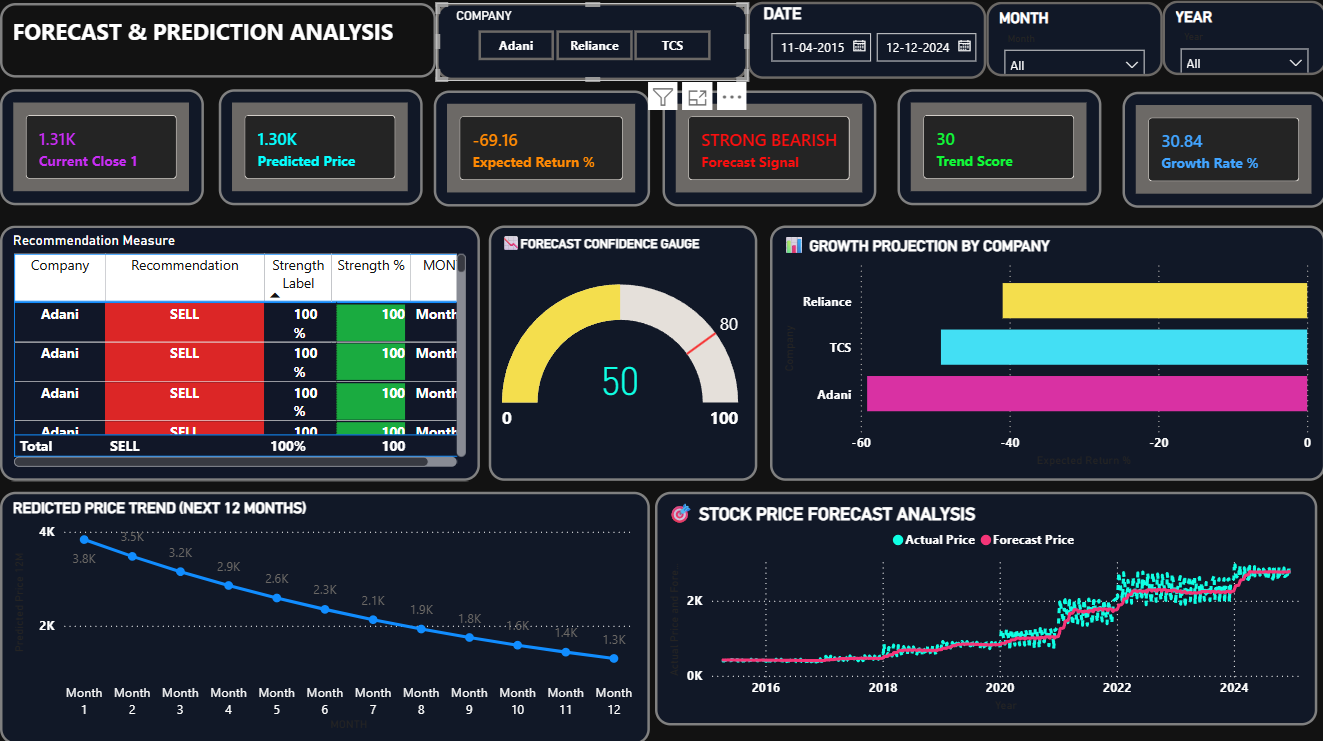

The page's visual inventory and layout, read from the dashboard file:
{"tool":"powerbi","page":{"name":"FORECAST & PREDICTION ANALYSIS","canvas":[1280,720],"ordinal":3},"visuals":[{"type":"slicer","title":"COMPANY","fields":{"Values":["feature_engineered_stock_data.Company"]},"box":[421,4.8,300.4,74.8],"z":0},{"type":"slicer","title":"DATE","fields":{"Values":["feature_engineered_stock_data.Date"]},"box":[721.5,3.6,230.4,74.8],"z":1000},{"type":"slicer","title":"MONTH","fields":{"Values":["feature_engineered_stock_data.Month"]},"box":[951.9,3.6,170.1,72.4],"z":2000},{"type":"slicer","title":"YEAR","fields":{"Values":["feature_engineered_stock_data.Year"]},"box":[1122,2.4,158,72.4],"z":3000},{"type":"textbox","box":[0,4.8,421,72.4],"z":4000},{"type":"cardVisual","fields":{"Data":["Measure_Table_04.Current Close 1"]},"box":[0,88.1,196.6,112.2],"z":5000},{"type":"cardVisual","fields":{"Data":["Measure_Table_04.Predicted Price"]},"box":[211.1,88.1,196.6,112.2],"z":6000},{"type":"cardVisual","fields":{"Data":["Measure_Table_04.Expected Return %"]},"box":[418.6,89.3,208.7,112.2],"z":7000},{"type":"cardVisual","fields":{"Data":["Measure_Table_04.Growth Rate %"]},"box":[1083.4,90.5,196.6,112.2],"z":8000},{"type":"cardVisual","fields":{"Data":["Measure_Table_04.Trend Score"]},"box":[866.2,88.1,196.6,112.2],"z":9000},{"type":"cardVisual","fields":{"Data":["Measure_Table_04.Forecast Signal"]},"box":[639.4,89.3,206.3,112.2],"z":10000},{"type":"lineChart","title":"🎯 STOCK PRICE FORECAST ANALYSIS","fields":{"Y":["Measure_Table_04.Actual Price","Measure_Table_04.Forecast Price"],"Category":["feature_engineered_stock_data.Date.Variation.Date Hierarchy.Year","feature_engineered_stock_data.Date.Variation.Date Hierarchy.Quarter","feature_engineered_stock_data.Date.Variation.Date Hierarchy.Month","feature_engineered_stock_data.Date.Variation.Date Hierarchy.Day"]},"box":[632.2,476.5,639.4,225.6],"z":11000},{"type":"gauge","title":"📉FORECAST CONFIDENCE GAUGE","fields":{"Y":["Measure_Table_04.Forecast Confidence"],"MinValue":["Measure_Table_04.Gauge Min"],"MaxValue":["Measure_Table_04.Gauge Max"],"TargetValue":["Measure_Table_04.Confidence Target"]},"box":[471.7,219.6,260.6,246.1],"z":12000},{"type":"clusteredBarChart","title":"📊 GROWTH PROJECTION BY COMPANY","fields":{"Category":["feature_engineered_stock_data.Company"],"Y":["Measure_Table_04.Expected Return %"]},"box":[743.2,219.6,535.7,246.1],"z":13000},{"type":"tableEx","title":"Recommendation Measure","fields":{"Values":["feature_engineered_stock_data.Company","Measure_Table_04.Recommendation","Measure_Table_04.Strength Label","Measure_Table_04.Strength %","Forecast_Months.MONTH "]},"box":[0,219.6,463.3,246.1],"z":14000},{"type":"lineChart","title":"REDICTED PRICE TREND (NEXT 12 MONTHS)","fields":{"Category":["Forecast_Months.MONTH "],"Y":["Forecast_Months.Predicted Price 12M"]},"box":[0,476.5,627.3,243.7],"z":15000}]}

Visuals, with their boxes in screenshot pixels (x1, y1, x2, y2), scaled from the page's 1280x720 canvas onto the 1323x741 screenshot:
"COMPANY" slicer: l=435, t=5, r=746, b=82
"DATE" slicer: l=746, t=4, r=984, b=81
"MONTH" slicer: l=984, t=4, r=1160, b=78
"YEAR" slicer: l=1160, t=2, r=1322, b=77
textbox: l=0, t=5, r=435, b=79
cardVisual - Measure_Table_04.Current Close 1: l=0, t=91, r=203, b=206
cardVisual - Measure_Table_04.Predicted Price: l=218, t=91, r=421, b=206
cardVisual - Measure_Table_04.Expected Return %: l=433, t=92, r=648, b=207
cardVisual - Measure_Table_04.Growth Rate %: l=1120, t=93, r=1322, b=209
cardVisual - Measure_Table_04.Trend Score: l=895, t=91, r=1099, b=206
cardVisual - Measure_Table_04.Forecast Signal: l=661, t=92, r=874, b=207
"🎯 STOCK PRICE FORECAST ANALYSIS" lineChart: l=653, t=490, r=1314, b=723
"📉FORECAST CONFIDENCE GAUGE" gauge: l=488, t=226, r=757, b=479
"📊 GROWTH PROJECTION BY COMPANY" clusteredBarChart: l=768, t=226, r=1322, b=479
"Recommendation Measure" tableEx: l=0, t=226, r=479, b=479
"REDICTED PRICE TREND (NEXT 12 MONTHS)" lineChart: l=0, t=490, r=648, b=740
